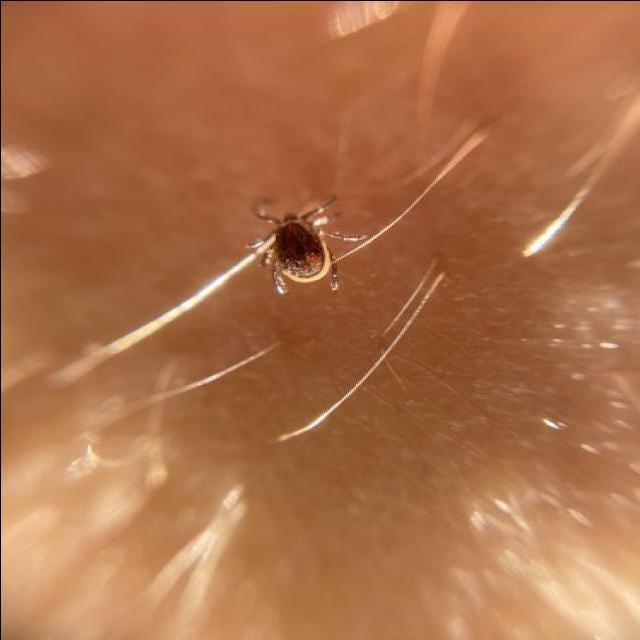Ixodes Ricinus-M: (244, 195, 336, 293)
